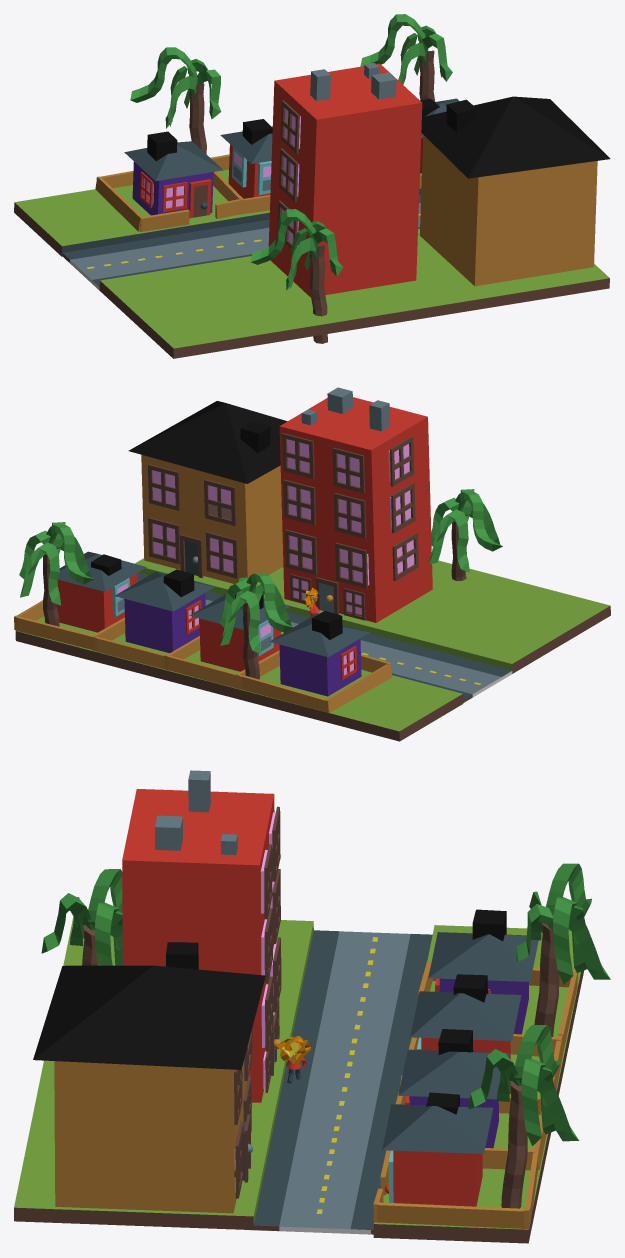
The picture shows the model from 3 angles, top to bottom: view 1: azimuth 30°, elevation 25°; view 2: azimuth 150°, elevation 25°; view 3: azimuth 270°, elevation 25°; orthographic projection. The views are drawn at different scales.
Parts seen in each view (by area): view 1: node_MeshObject366830592-PolyPaper20, node_MeshObject2083067904-PolyPaper20, node_MeshObject-1639820288-PolyPaper20, node_MeshObject-1067741184-PolyPaper19, node_MeshObject938909696-PolyGem25; view 2: node_MeshObject366830592-PolyPaper20, node_MeshObject2083067904-PolyPaper20, node_MeshObject-1639820288-PolyPaper20, node_MeshObject-1067741184-PolyPaper19, node_MeshObject938909696-PolyGem25; view 3: node_MeshObject366830592-PolyPaper20, node_MeshObject-1639820288-PolyPaper20, node_MeshObject2083067904-PolyPaper20, node_MeshObject-1067741184-PolyPaper19, node_MeshObject938909696-PolyGem25.
Boxes of the visible parts, x1,y1,x2,y2 form: node_MeshObject366830592-PolyPaper20: (14, 63, 610, 358); node_MeshObject2083067904-PolyPaper20: (87, 14, 609, 348); node_MeshObject-1639820288-PolyPaper20: (62, 47, 476, 343); node_MeshObject-1067741184-PolyPaper19: (15, 169, 421, 256); node_MeshObject938909696-PolyGem25: (143, 109, 300, 246); node_MeshObject366830592-PolyPaper20: (15, 387, 610, 741); node_MeshObject2083067904-PolyPaper20: (19, 489, 610, 684); node_MeshObject-1639820288-PolyPaper20: (14, 421, 472, 702); node_MeshObject-1067741184-PolyPaper19: (16, 526, 462, 731); node_MeshObject938909696-PolyGem25: (117, 439, 414, 675); node_MeshObject366830592-PolyPaper20: (14, 770, 584, 1243); node_MeshObject-1639820288-PolyPaper20: (82, 863, 610, 1234); node_MeshObject2083067904-PolyPaper20: (14, 869, 578, 1224); node_MeshObject-1067741184-PolyPaper19: (236, 925, 589, 1229); node_MeshObject938909696-PolyGem25: (234, 812, 490, 1192).
Size of the model in its own units: 1.39 by 0.6662 by 1.17.
